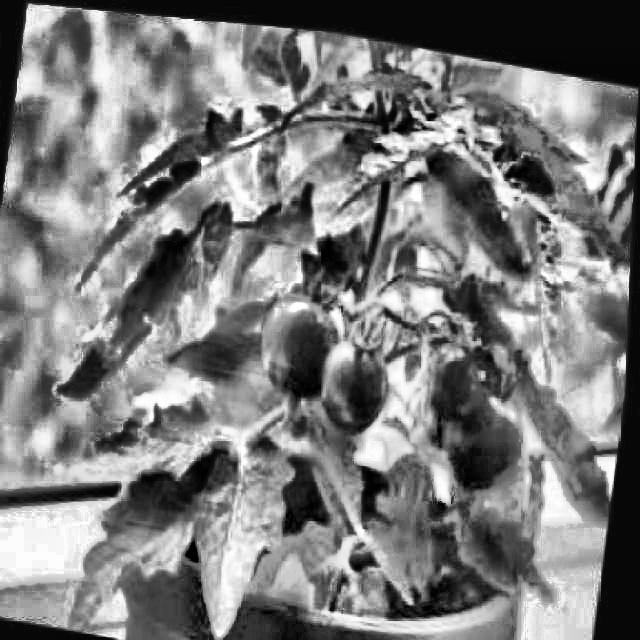plants: (26, 3, 640, 639)
